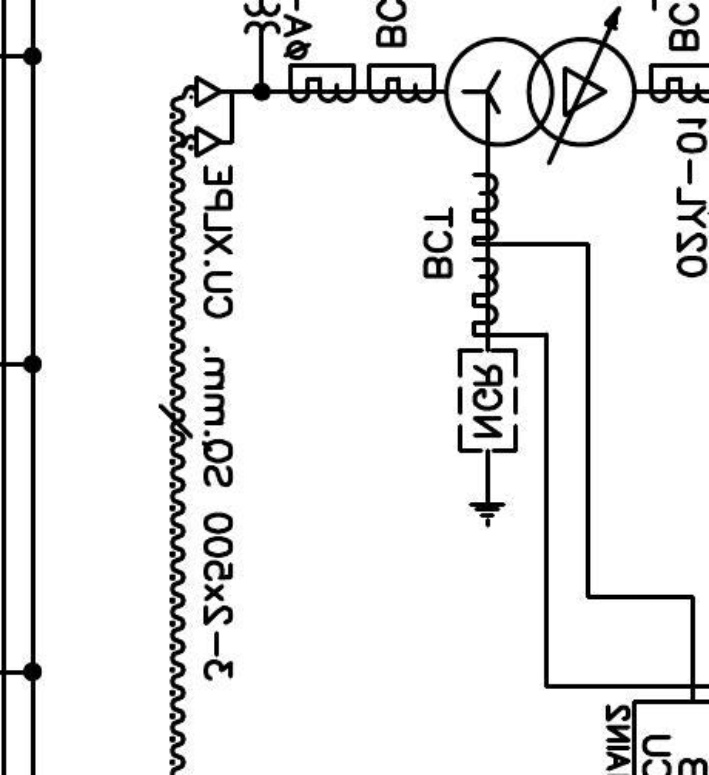11522_tx_dyn1: (443, 35, 638, 148)
NGR_future: (456, 347, 519, 529)
terminator_double: (194, 75, 235, 158)
